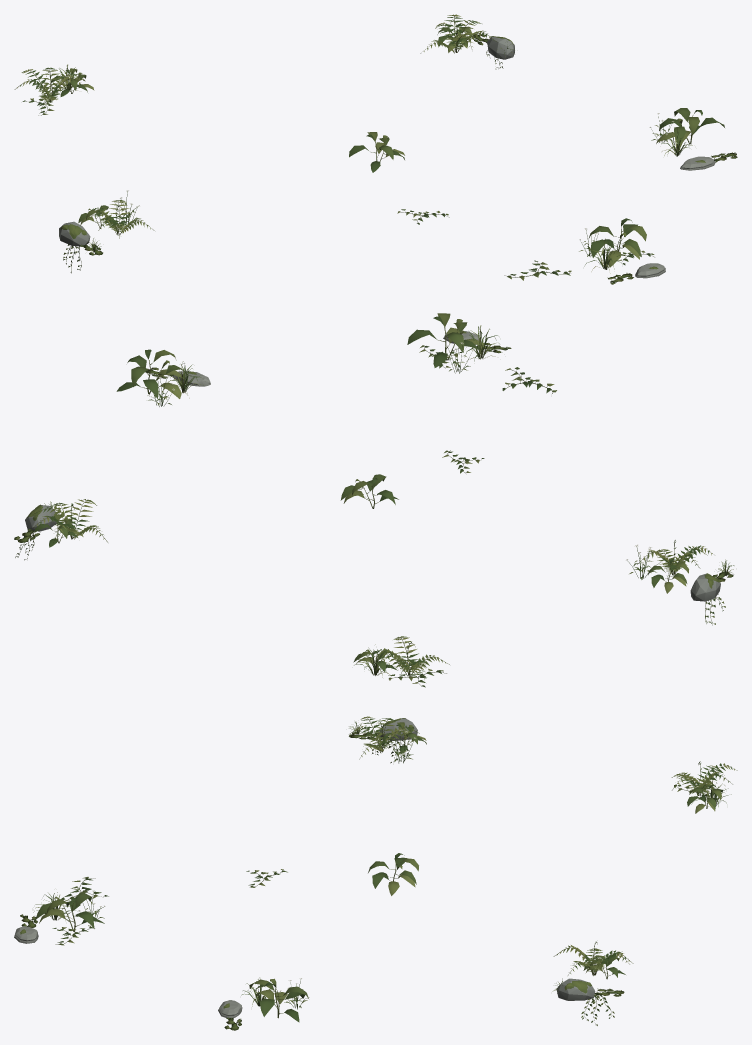
Rendered from dressing_stage3.glb.
3 renders of one model, top to bottom at view 1: azimuth 30°, elevation 25°; view 2: azimuth 150°, elevation 25°; view 3: azimuth 270°, elevation 25°, orthographic. The views are drawn at different scales.
Parts seen in each view (by area): view 1: stage1_dressing_foliage, stage1_dressing_rocks; view 2: stage1_dressing_foliage, stage1_dressing_rocks; view 3: stage1_dressing_foliage, stage1_dressing_rocks.
Part boxes in pixels (x1,y1,x2,y2): stage1_dressing_foliage: (14,14,737,284); stage1_dressing_rocks: (59,36,715,278); stage1_dressing_foliage: (14,313,734,687); stage1_dressing_rocks: (25,331,720,601); stage1_dressing_foliage: (20,716,737,1030); stage1_dressing_rocks: (14,718,595,1017).
Size of the model in its own units: 7.03 by 0.7644 by 7.09.
